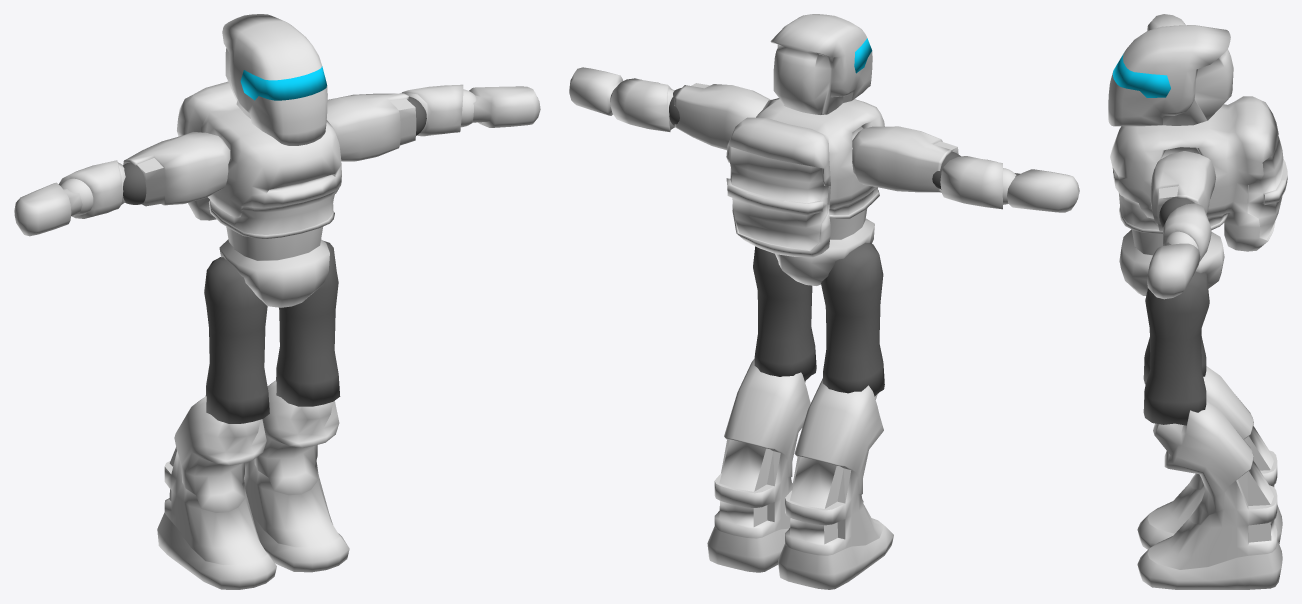
Rendered from Falkok.dae.
3 renders of one model, left to right at view 1: azimuth 30°, elevation 25°; view 2: azimuth 150°, elevation 25°; view 3: azimuth 270°, elevation 25°, orthographic. The views are drawn at different scales.
Visible parts, largest first — view 1: Body, RightKnee, LeftKnee, Head.001, RightLeg, LeftLeg, RightShoulder, LeftShoulder, RightElbow, LeftElbow, LeftHand, RightHand (+1 smaller); view 2: Body, RightKnee, LeftKnee, Head.001, RightLeg, LeftLeg, RightShoulder, LeftShoulder, RightElbow, LeftElbow, RightHand, LeftHand; view 3: Body, LeftKnee, Head.001, LeftLeg, RightKnee, LeftShoulder, LeftHand, LeftElbow, Visor, RightLeg, RightHand.
Part boxes in pixels (<box>): Body: <box>177,81,341,307</box>; RightKnee: <box>157,396,276,589</box>; LeftKnee: <box>244,380,349,572</box>; Head.001: <box>222,14,327,145</box>; RightLeg: <box>204,257,269,423</box>; LeftLeg: <box>276,241,340,406</box>; RightShoulder: <box>123,132,230,206</box>; LeftShoulder: <box>326,93,416,161</box>; RightElbow: <box>58,160,146,218</box>; LeftElbow: <box>402,84,476,136</box>; LeftHand: <box>469,86,540,127</box>; RightHand: <box>14,182,82,236</box>; Body: <box>726,98,884,285</box>; RightKnee: <box>778,379,893,589</box>; LeftKnee: <box>707,358,810,572</box>; Head.001: <box>770,14,872,114</box>; RightLeg: <box>821,242,884,396</box>; LeftLeg: <box>753,246,816,381</box>; RightShoulder: <box>852,126,958,192</box>; LeftShoulder: <box>674,83,770,150</box>; RightElbow: <box>932,151,1016,209</box>; LeftElbow: <box>610,78,680,131</box>; RightHand: <box>1007,169,1079,212</box>; LeftHand: <box>569,67,623,115</box>; Body: <box>1110,96,1287,295</box>; LeftKnee: <box>1137,401,1282,589</box>; Head.001: <box>1108,25,1233,126</box>; LeftLeg: <box>1143,271,1209,425</box>; RightKnee: <box>1137,366,1282,549</box>; LeftShoulder: <box>1150,151,1215,231</box>; LeftHand: <box>1147,242,1200,299</box>; LeftElbow: <box>1159,197,1211,261</box>; Visor: <box>1112,53,1170,97</box>; RightLeg: <box>1143,329,1206,384</box>; RightHand: <box>1147,14,1185,30</box>.
Bounding box in the file's own units: 9.89 × 3 × 9.69.
